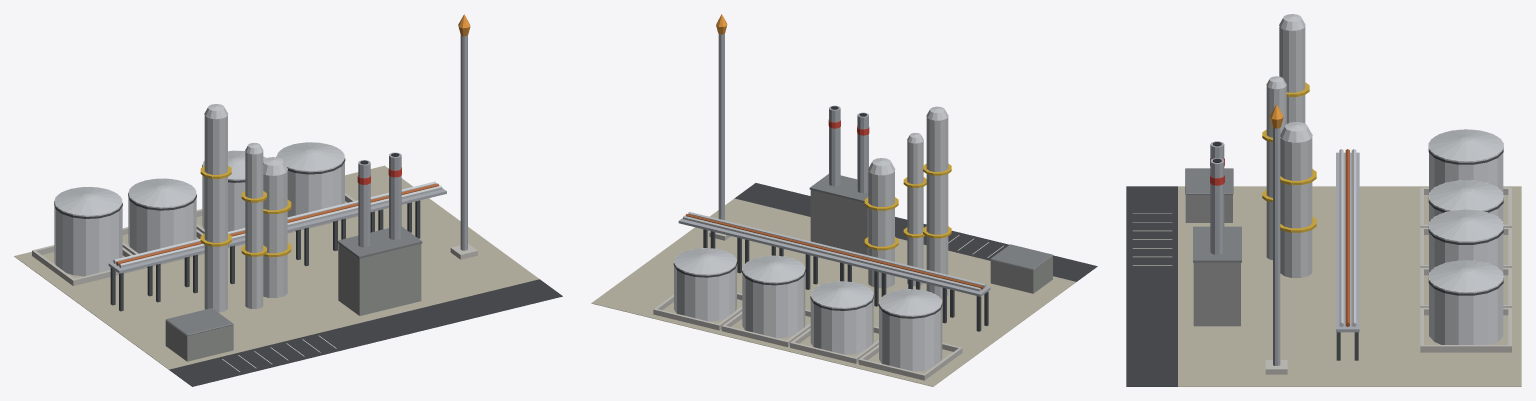
File: refinery.glb
3 renders of one model, left to right at view 1: azimuth 30°, elevation 25°; view 2: azimuth 150°, elevation 25°; view 3: azimuth 270°, elevation 25°, orthographic. The views are drawn at different scales.
Parts seen in each view (by area): view 1: refinery; view 2: refinery; view 3: refinery.
Boxes of the visible parts, <box> form: refinery: <box>14,14,562,386</box>; refinery: <box>591,14,1097,386</box>; refinery: <box>1126,14,1521,386</box>.
Size of the model in its own units: 60 by 37.2 by 50.
